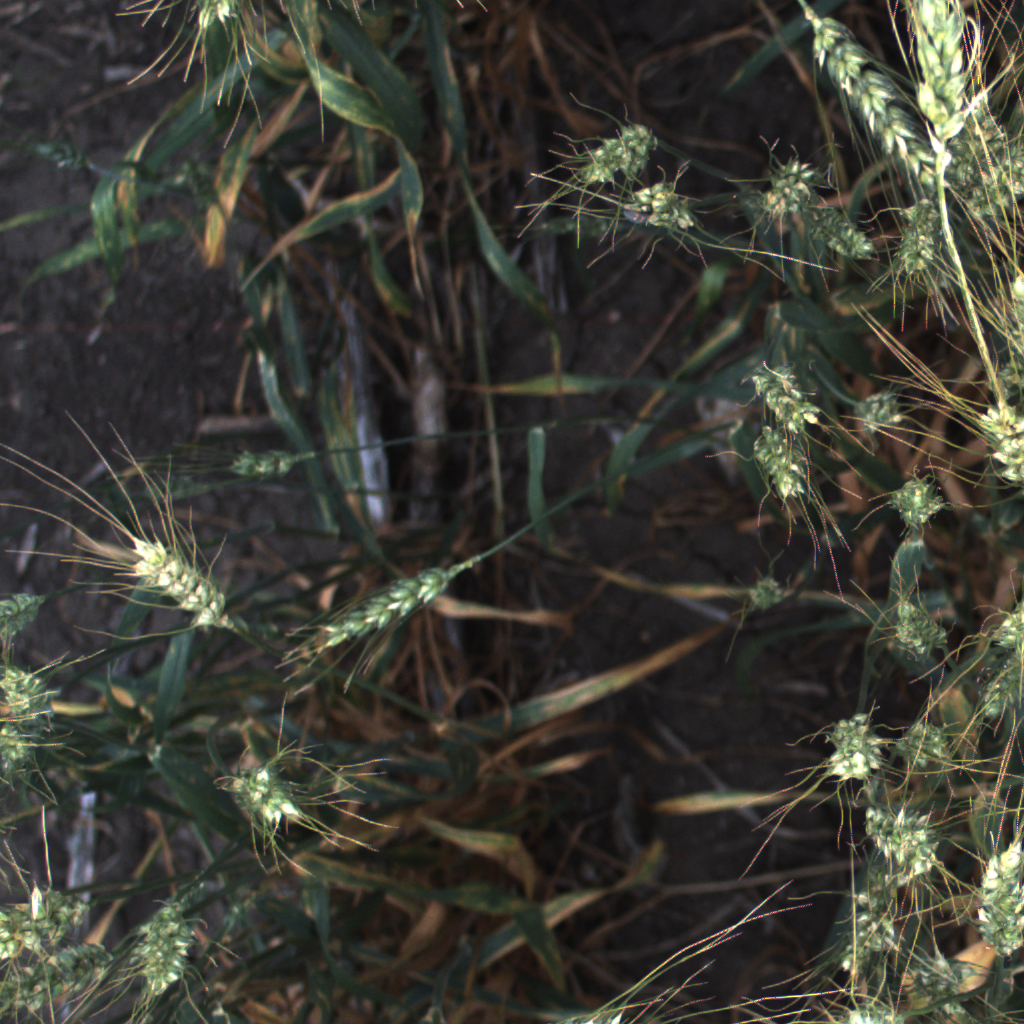wheat_head: (797, 8, 952, 198), (311, 552, 472, 663), (119, 519, 246, 642), (896, 0, 978, 179), (0, 933, 122, 1024), (573, 104, 668, 197), (224, 745, 311, 843), (0, 884, 100, 963), (741, 354, 833, 439), (742, 418, 822, 515), (969, 828, 1024, 964), (134, 896, 198, 1005), (820, 690, 886, 794), (859, 801, 944, 880), (961, 138, 1024, 242), (841, 872, 900, 975), (888, 576, 952, 670), (751, 144, 822, 226), (796, 200, 878, 268), (619, 174, 701, 241), (217, 437, 326, 486), (890, 193, 945, 288), (973, 393, 1024, 492), (875, 470, 953, 531), (915, 947, 973, 1024), (976, 638, 1024, 725), (0, 657, 58, 720), (729, 570, 800, 621), (890, 720, 956, 773), (854, 385, 914, 443), (0, 572, 58, 628), (175, 0, 247, 42), (984, 591, 1024, 659), (0, 596, 52, 643), (836, 994, 915, 1024), (0, 720, 39, 768), (1004, 261, 1024, 353)
